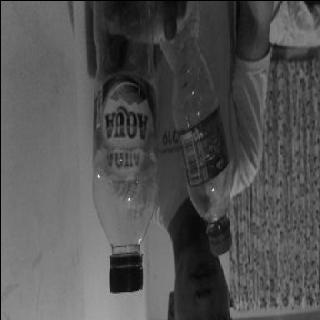plastic_bottles: (157, 0, 236, 252), (88, 0, 156, 292)
